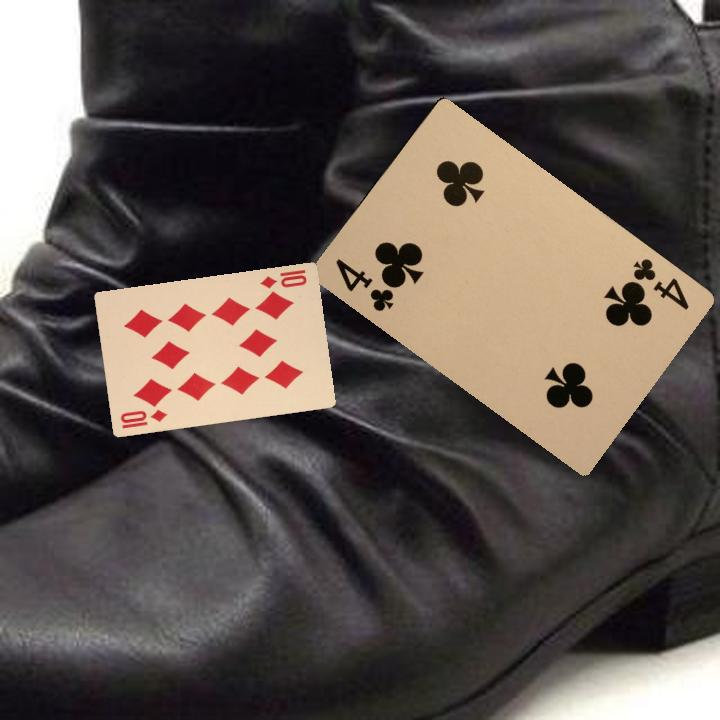10d: (116, 405, 169, 431), (256, 266, 309, 291)
4c: (331, 254, 397, 315), (626, 254, 692, 313)
